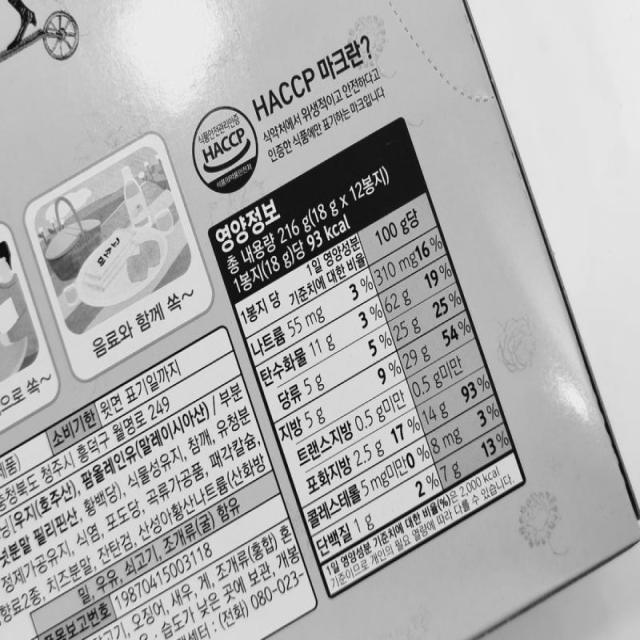Nutrition Label: (196, 104, 534, 613)
